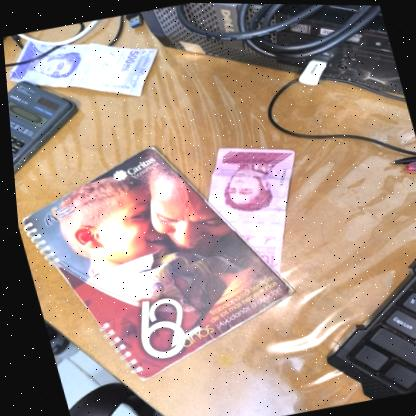one_hundred-front-vef: (189, 132, 323, 284)
